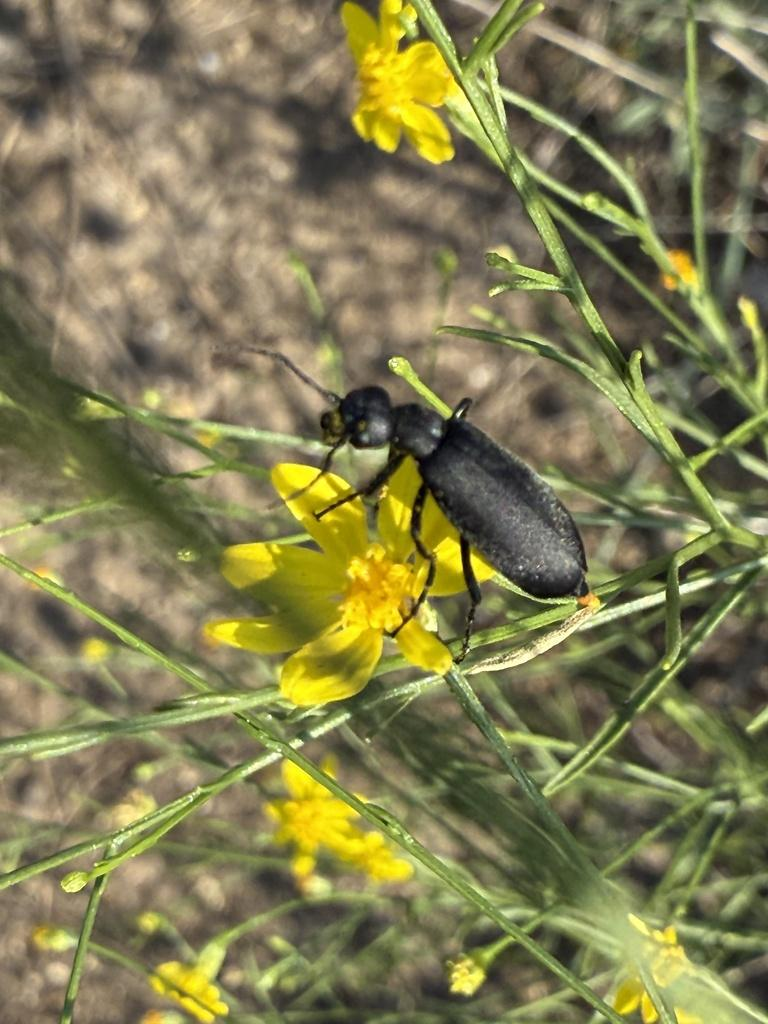blister_beetle: (192, 277, 672, 697)
